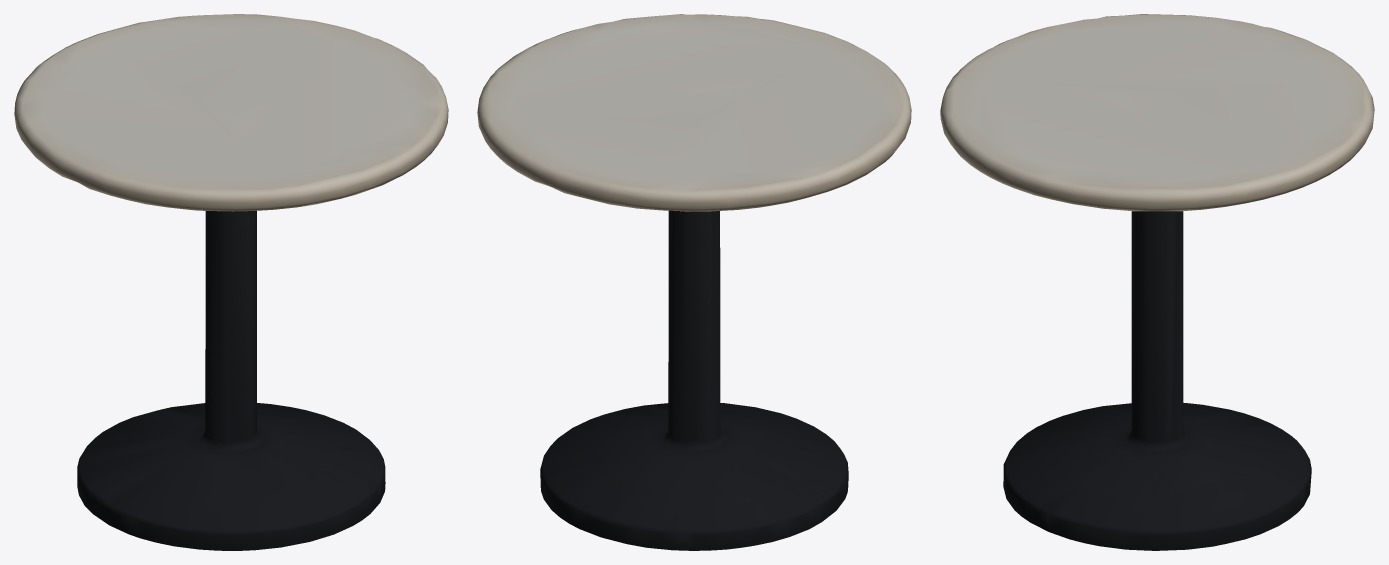
The model's file is lumiere-round-table.glb.
3 renders of one model, left to right at view 1: azimuth 30°, elevation 25°; view 2: azimuth 150°, elevation 25°; view 3: azimuth 270°, elevation 25°, orthographic.
Visible parts, largest first — view 1: lumiere-round-table_LOD0; view 2: lumiere-round-table_LOD0; view 3: lumiere-round-table_LOD0.
Boxes of the visible parts, x1,y1,x2,y2 form: lumiere-round-table_LOD0: [14, 14, 448, 550]; lumiere-round-table_LOD0: [477, 14, 911, 550]; lumiere-round-table_LOD0: [940, 14, 1374, 550].
Size of what is drawn, in the model's own units: 0.7599 by 0.74 by 0.7599.
